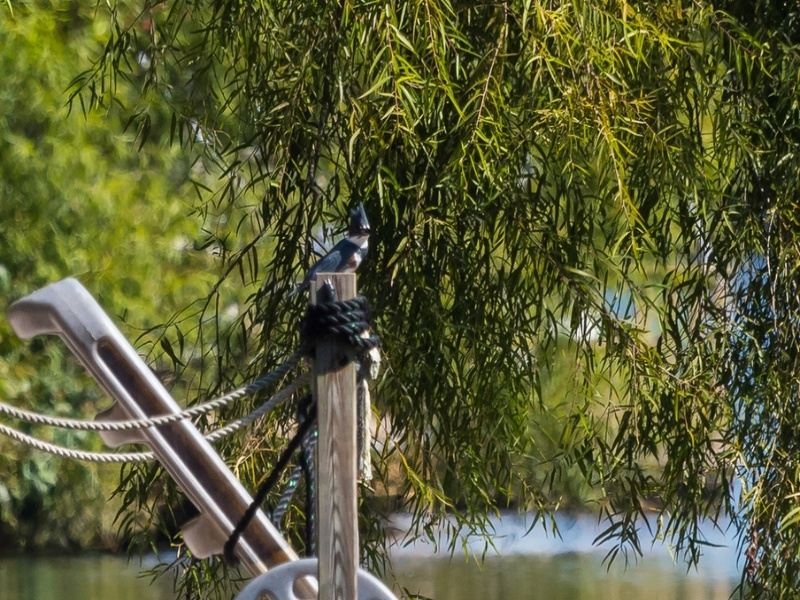kingfisher: (295, 203, 380, 294)
